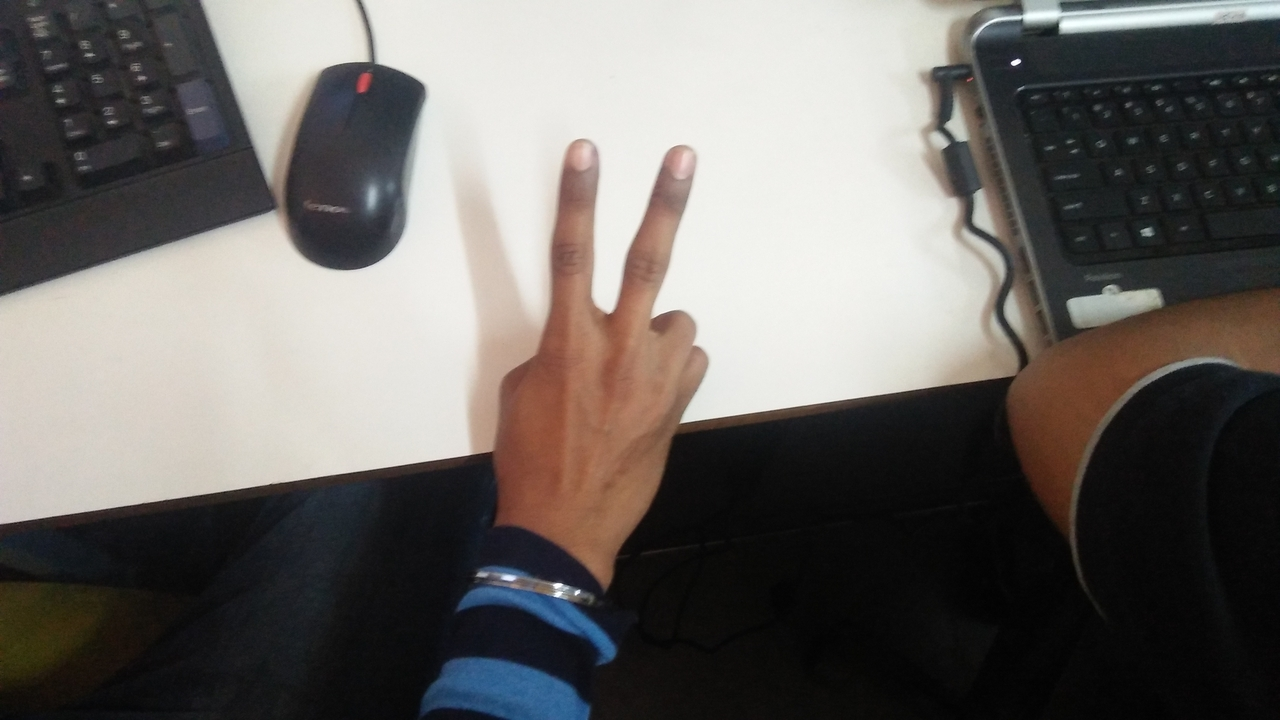fingertip: (646, 134, 710, 186), (550, 130, 610, 180)
